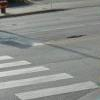Crosswalk: (2, 49, 93, 100)
